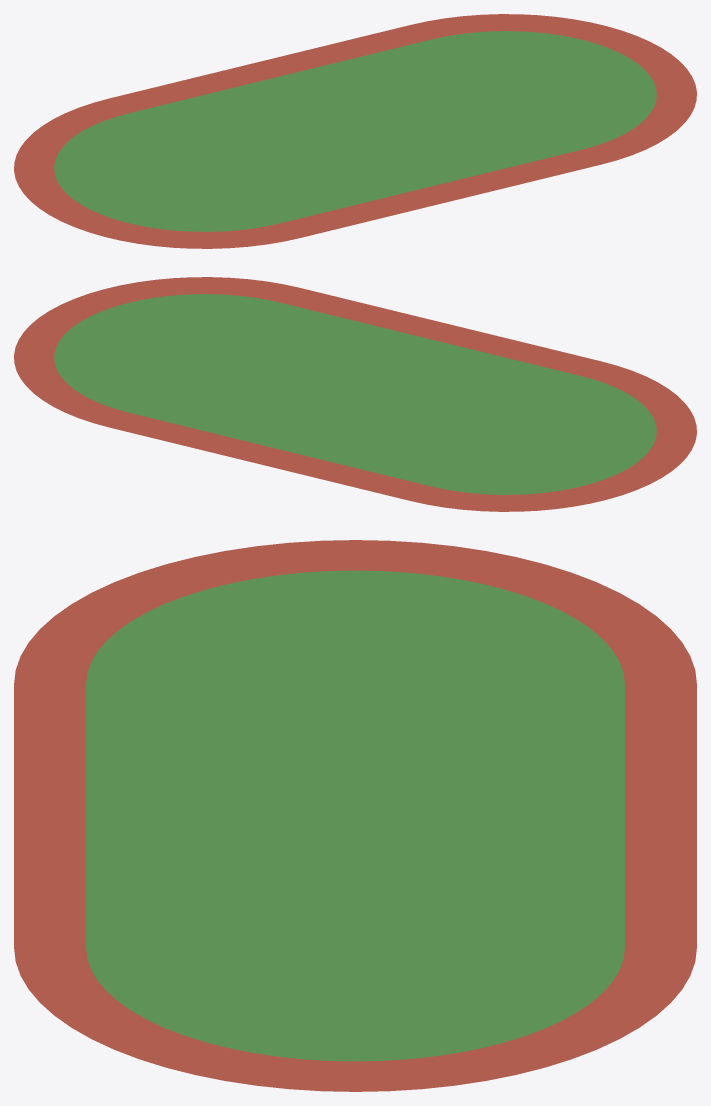
Rendered from SM_Track.fbx.
The picture shows the model from 3 angles, top to bottom: view 1: azimuth 30°, elevation 25°; view 2: azimuth 150°, elevation 25°; view 3: azimuth 270°, elevation 25°; orthographic projection. The views are drawn at different scales.
Parts seen in each view (by area): view 1: SM_Track; view 2: SM_Track; view 3: SM_Track.
Boxes of the visible parts, <box> form: SM_Track: <box>14,14,696,248</box>; SM_Track: <box>14,277,696,511</box>; SM_Track: <box>14,540,696,1091</box>.
Size of the model in its own units: 17691 by 9252 by 0.
